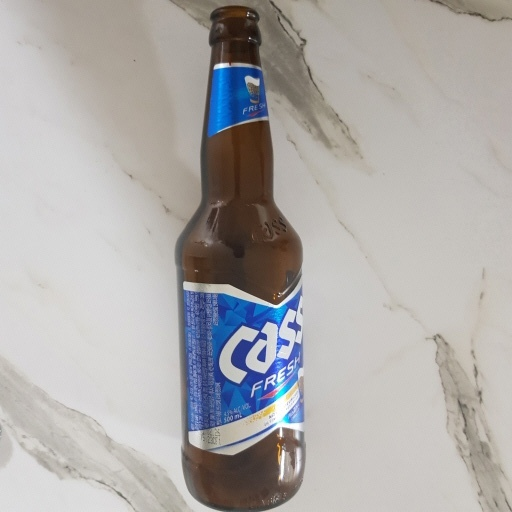Glass_1: (176, 5, 309, 512)
